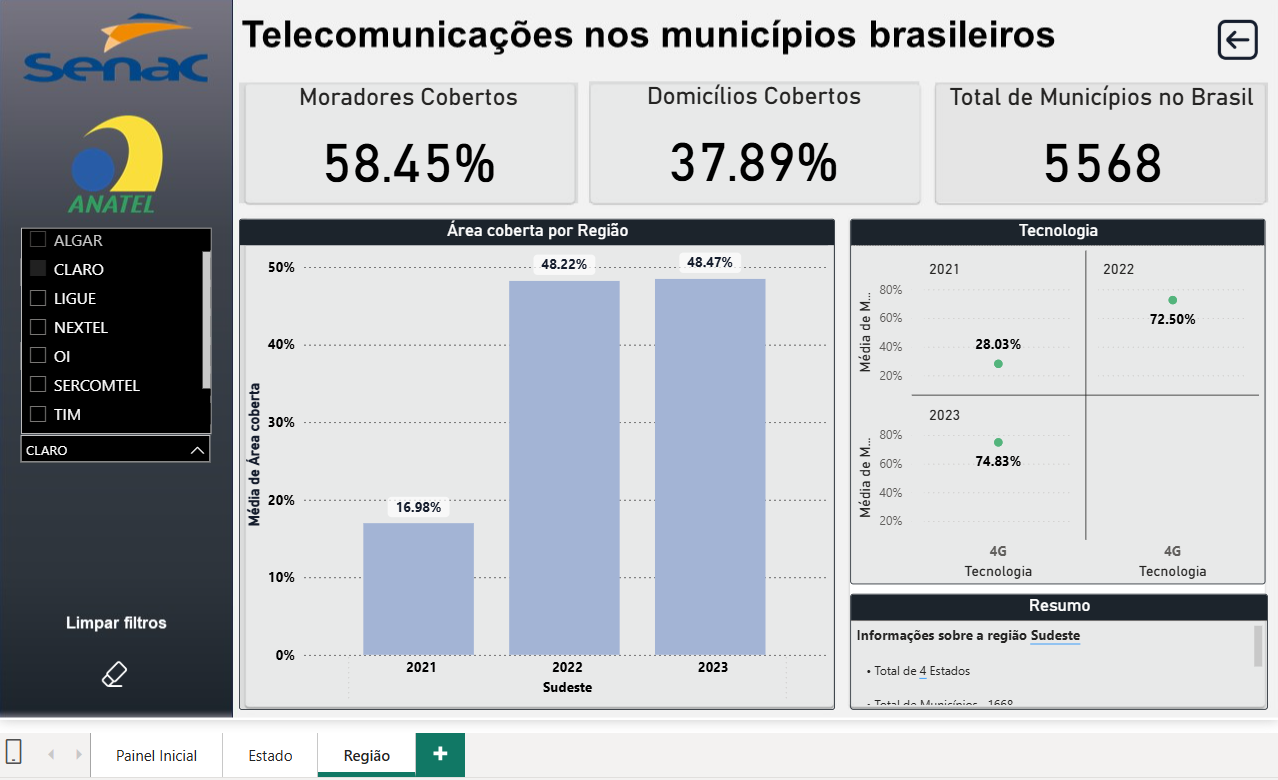

The page's visual inventory and layout, read from the dashboard file:
{"tool":"powerbi","page":{"name":"Região","canvas":[1280,720],"ordinal":2},"visuals":[{"type":"slicer","fields":{"Values":["Região.Região"]},"box":[11.7,230,210,91.7],"z":0},{"type":"card","title":"Moradores Cobertos","fields":{"Values":["Avg(Fato.Moradores cobertos)"]},"box":[240,82,338.9,120.6],"z":1000},{"type":"card","title":"Domicílios Cobertos","fields":{"Values":["Avg(Fato.% Área coberta)"]},"box":[590,81.2,330,121.2],"z":2000},{"type":"card","title":"Total de Municípios no Brasil","fields":{"Values":["Median(Fato.TotalMunicipios)"]},"box":[936.2,82.5,332.5,120],"z":3000},{"type":"lineStackedColumnComboChart","title":"Área coberta por Região","fields":{"Category":["Região.Região","Calendario.Date.Variation.Hierarquia de datas.Ano"],"Y":["Avg(Fato.% Área coberta)"]},"box":[240,218.3,595.8,490.9],"z":4000},{"type":"image","box":[31.7,655,168.3,38.3],"z":5000},{"type":"image","box":[1210,15,58.3,50],"z":6000},{"type":"slicer","fields":{"Values":["Tecnologia.Tecnologia"]},"box":[11.2,313.8,210,92.5],"z":7000},{"type":"textbox","title":"Resumo","box":[851.5,593.4,417.3,115.8],"z":8000},{"type":"areaChart","title":"Tecnologia","fields":{"Y":["Avg(Fato.Moradores cobertos)"],"Category":["Tecnologia.Tecnologia"],"Rows":["Calendario.Date.Variation.Hierarquia de datas.Ano"]},"box":[851.5,218.3,414.9,365.4],"z":9000},{"type":"slicer","fields":{"Values":["Operadora.Operadora"]},"box":[11.2,406.2,210,92.5],"z":10000}]}

Visuals, with their boxes on the page's 1280x720 design canvas (x1, y1, x2, y2). These are canvas units, not pixel positions in the 1278x780 screenshot, which may show the page scaled, cropped or inside an application window:
slicer - Região.Região: x1=12, y1=230, x2=222, y2=322
"Moradores Cobertos" card: x1=240, y1=82, x2=579, y2=203
"Domicílios Cobertos" card: x1=590, y1=81, x2=920, y2=202
"Total de Municípios no Brasil" card: x1=936, y1=82, x2=1269, y2=202
"Área coberta por Região" lineStackedColumnComboChart: x1=240, y1=218, x2=836, y2=709
image: x1=32, y1=655, x2=200, y2=693
image: x1=1210, y1=15, x2=1268, y2=65
slicer - Tecnologia.Tecnologia: x1=11, y1=314, x2=221, y2=406
"Resumo" textbox: x1=852, y1=593, x2=1269, y2=709
"Tecnologia" areaChart: x1=852, y1=218, x2=1266, y2=584
slicer - Operadora.Operadora: x1=11, y1=406, x2=221, y2=499
